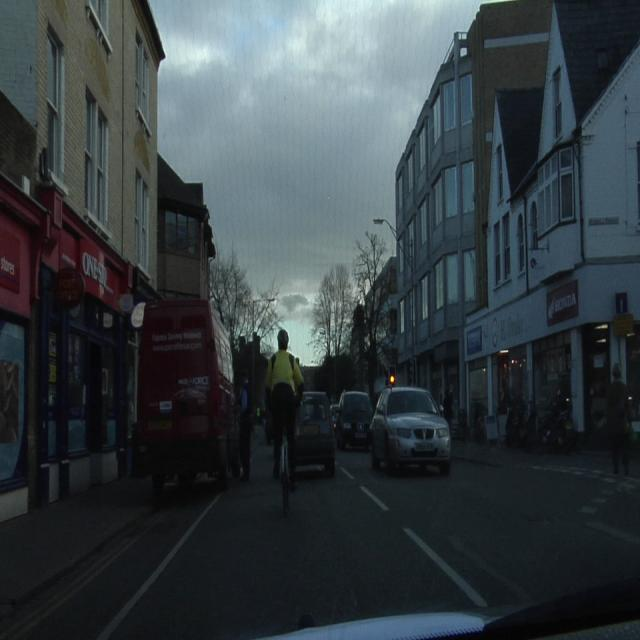Bicyclist: (266, 330, 304, 512)
Building: (0, 0, 215, 521), (466, 5, 638, 444), (394, 17, 476, 431)
Car: (371, 388, 450, 472), (295, 392, 335, 474), (338, 391, 371, 448)
Road: (2, 447, 639, 636)
Tree: (210, 250, 282, 354), (354, 232, 384, 296)
Truck_Bus: (138, 300, 239, 492)
person: (605, 364, 629, 474)
